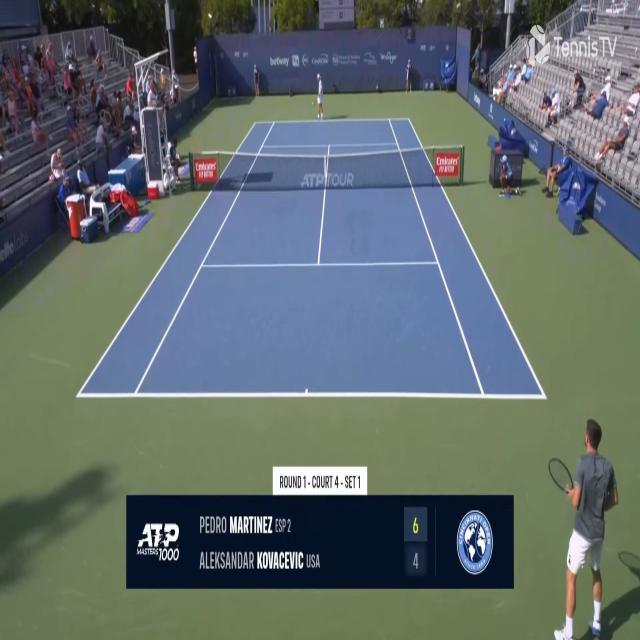tennis-player: (550, 413, 620, 638), (312, 74, 326, 120)
